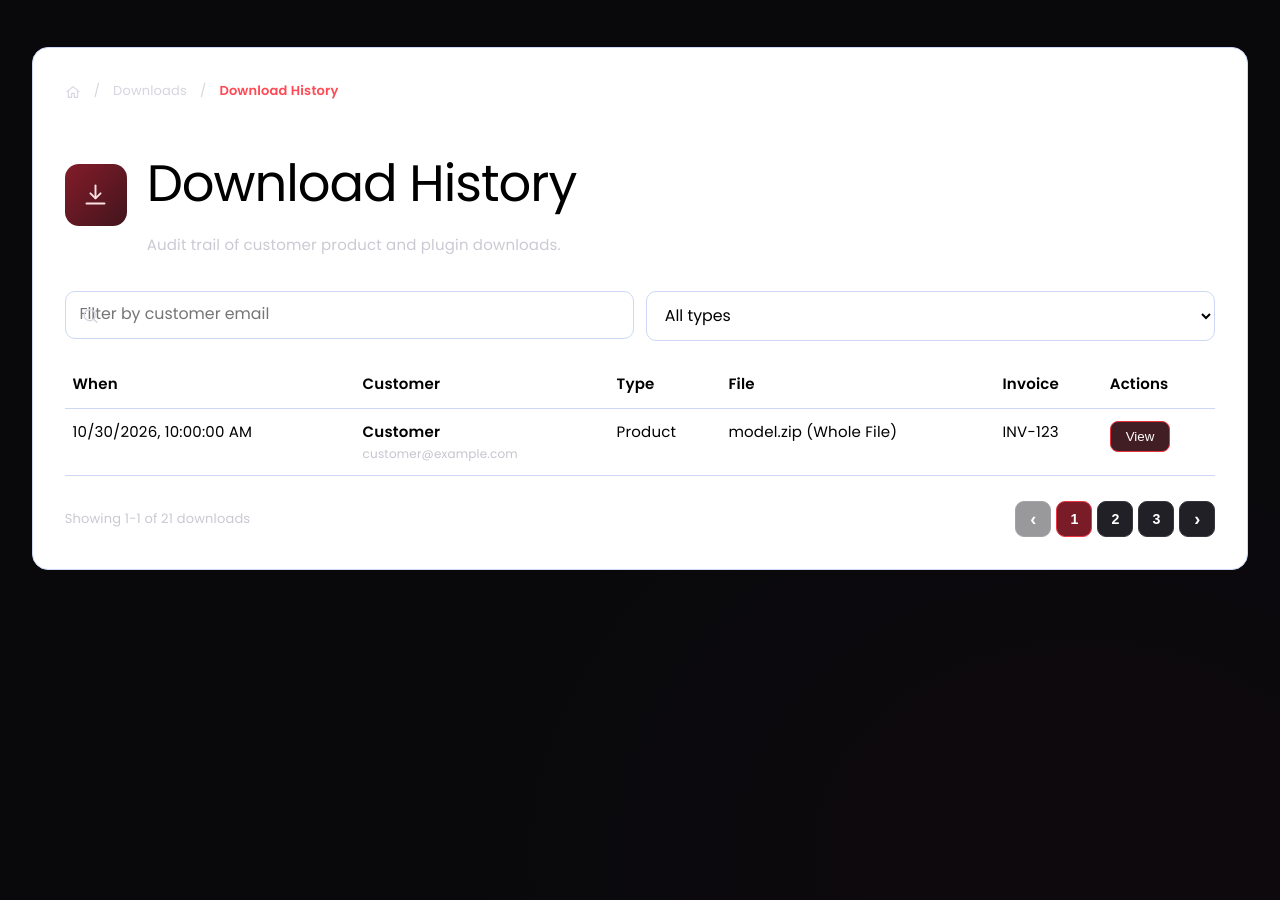
Test: AdminDownloadsPage › opens and closes details for a download record
Click the button "View" at {"x": 1140, "y": 436}, box 1110,420 -> 1170,452
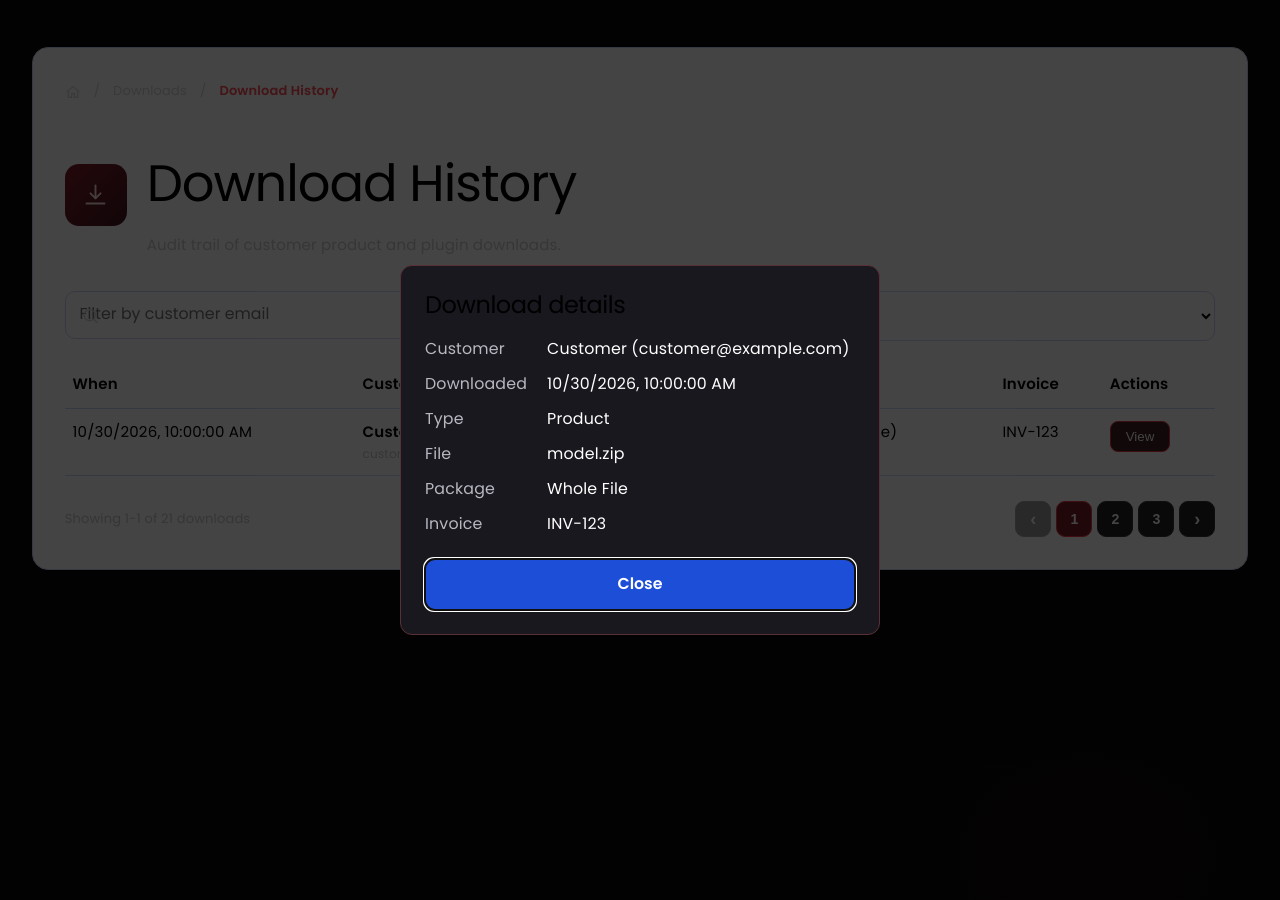
Check: the dialog "Download details" shows "INV-123", box 547,512 -> 606,535
Click the button "Close" at {"x": 640, "y": 585}, box 425,559 -> 855,610
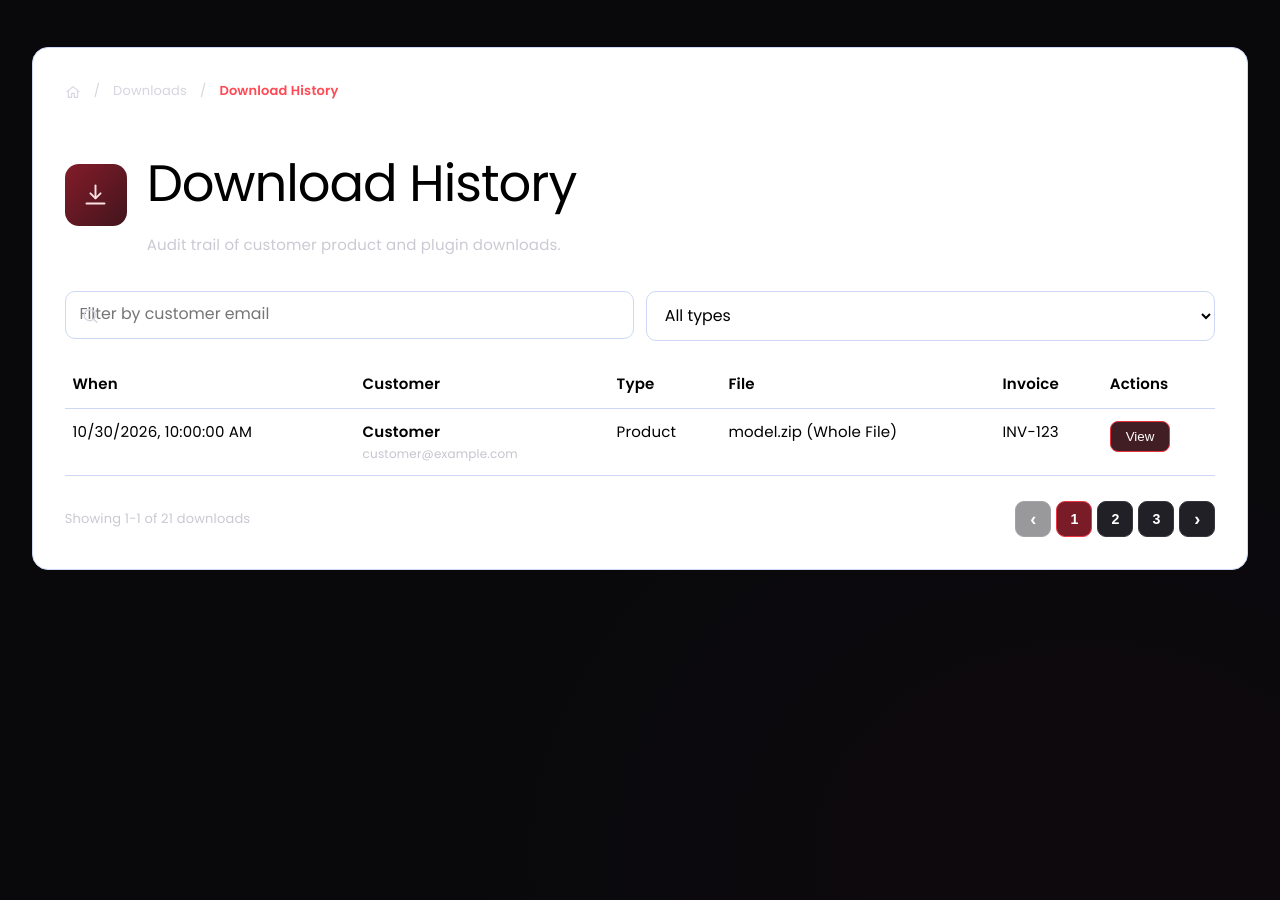
Check: the dialog is gone
